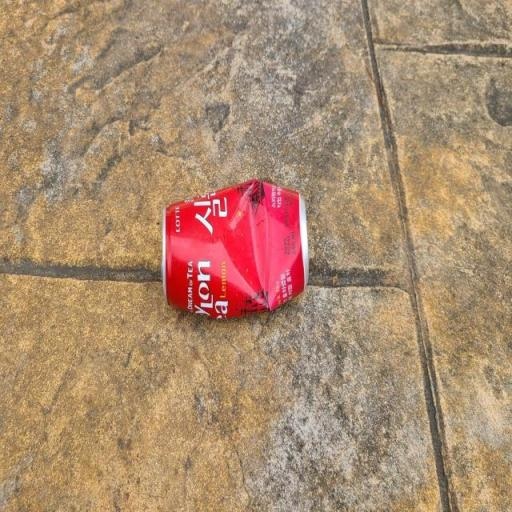metal: (145, 169, 319, 328)
